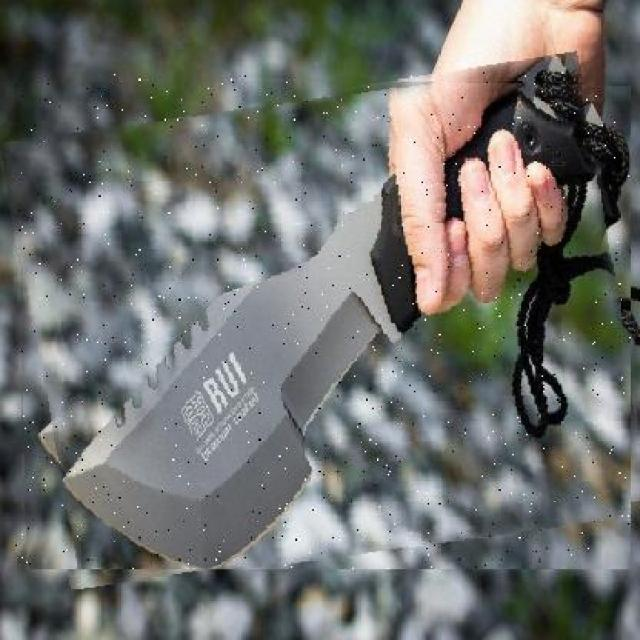Knife: (15, 48, 634, 570)
